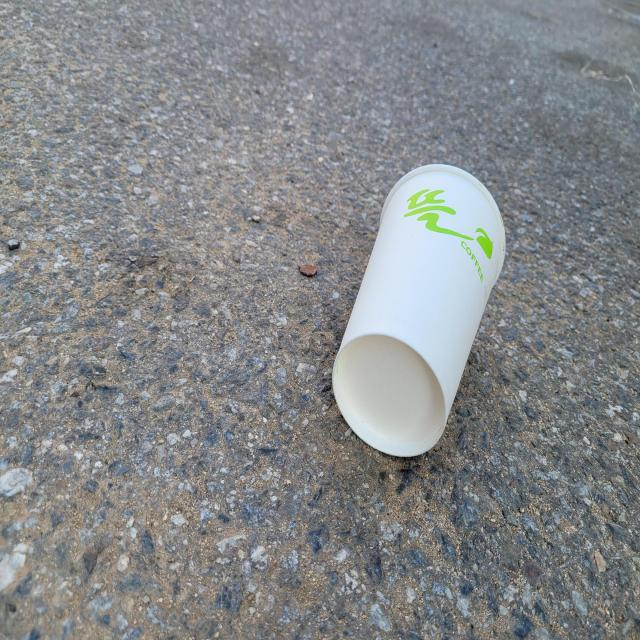paperpack: (333, 164, 506, 456)
